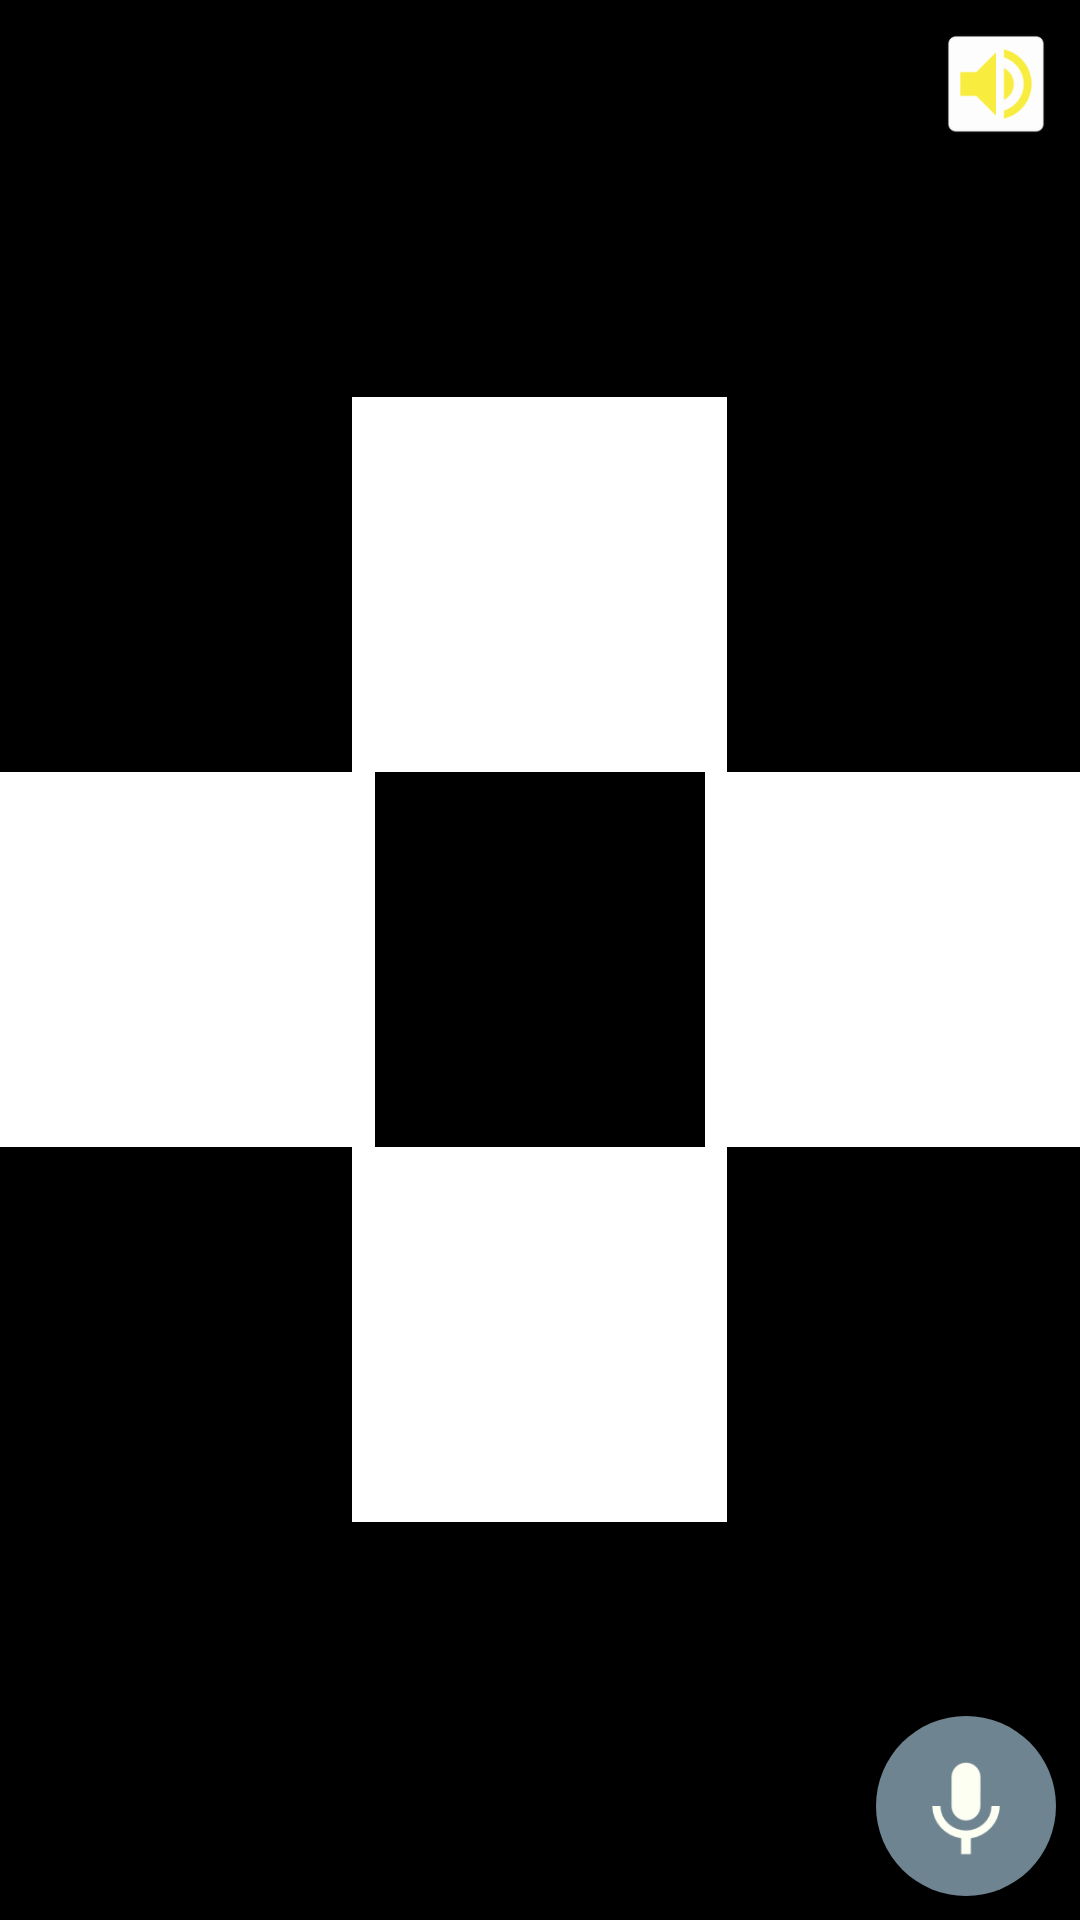

Icon bounding boxes for this 1080*1920 phone screenshot, format (x1, y1, x2, y2):
micro: (876, 1716, 1056, 1896)
